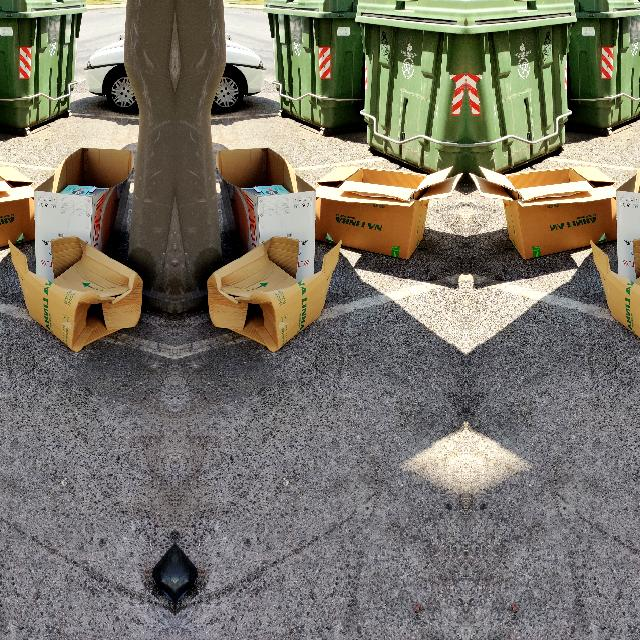Cardboard: (200, 230, 358, 358), (210, 137, 324, 309), (24, 137, 138, 309), (0, 230, 147, 357), (466, 154, 624, 266), (308, 154, 464, 266), (573, 230, 640, 357), (607, 137, 640, 309), (0, 154, 40, 266)
